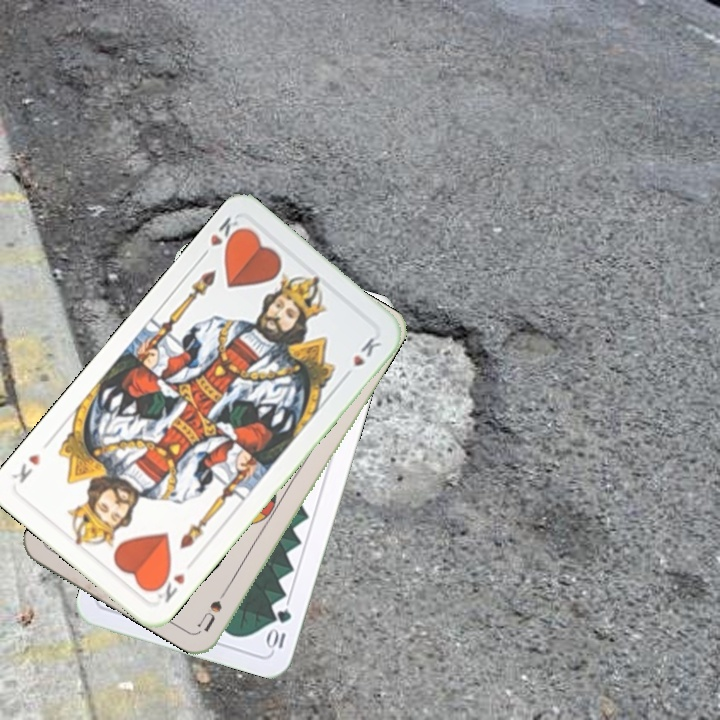G10: (263, 604, 294, 653)
HK: (196, 212, 247, 262), (149, 566, 188, 606)
SU: (195, 578, 234, 634)
